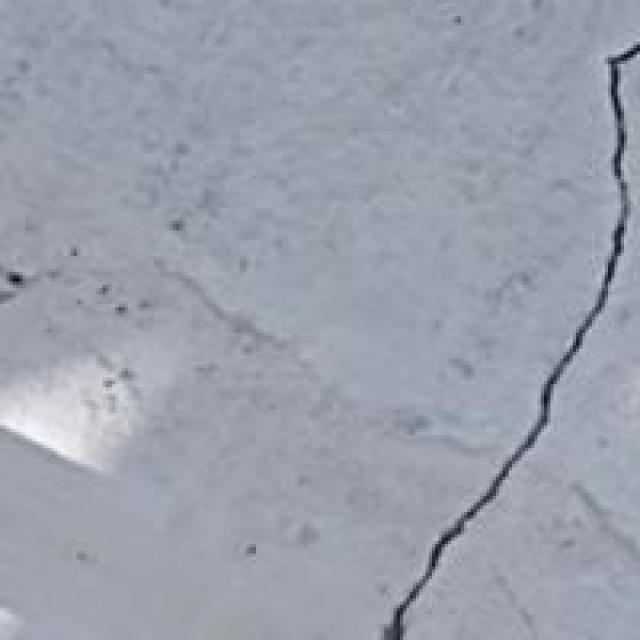Crack: (358, 35, 636, 637)
